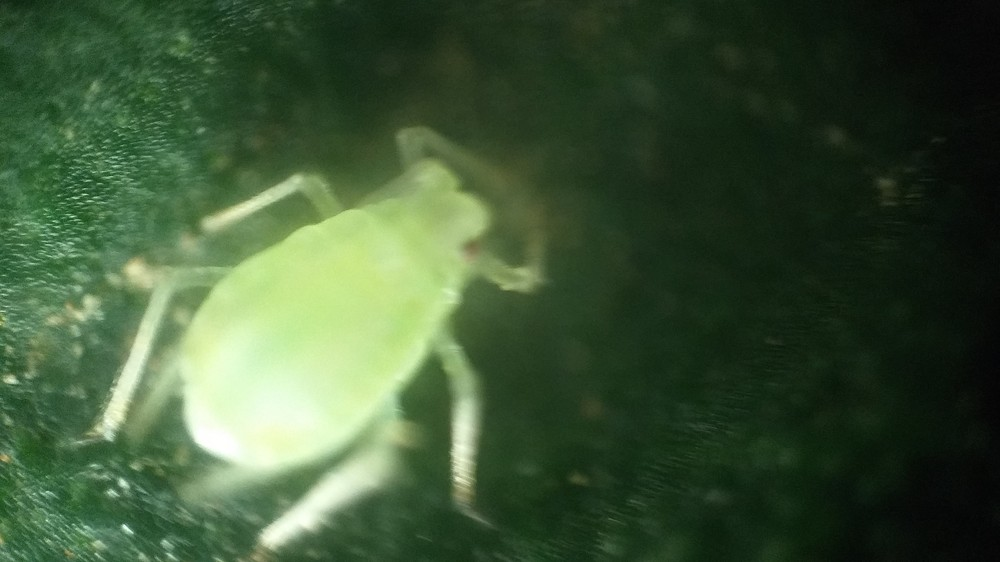Pulgon: (80, 115, 577, 543)
